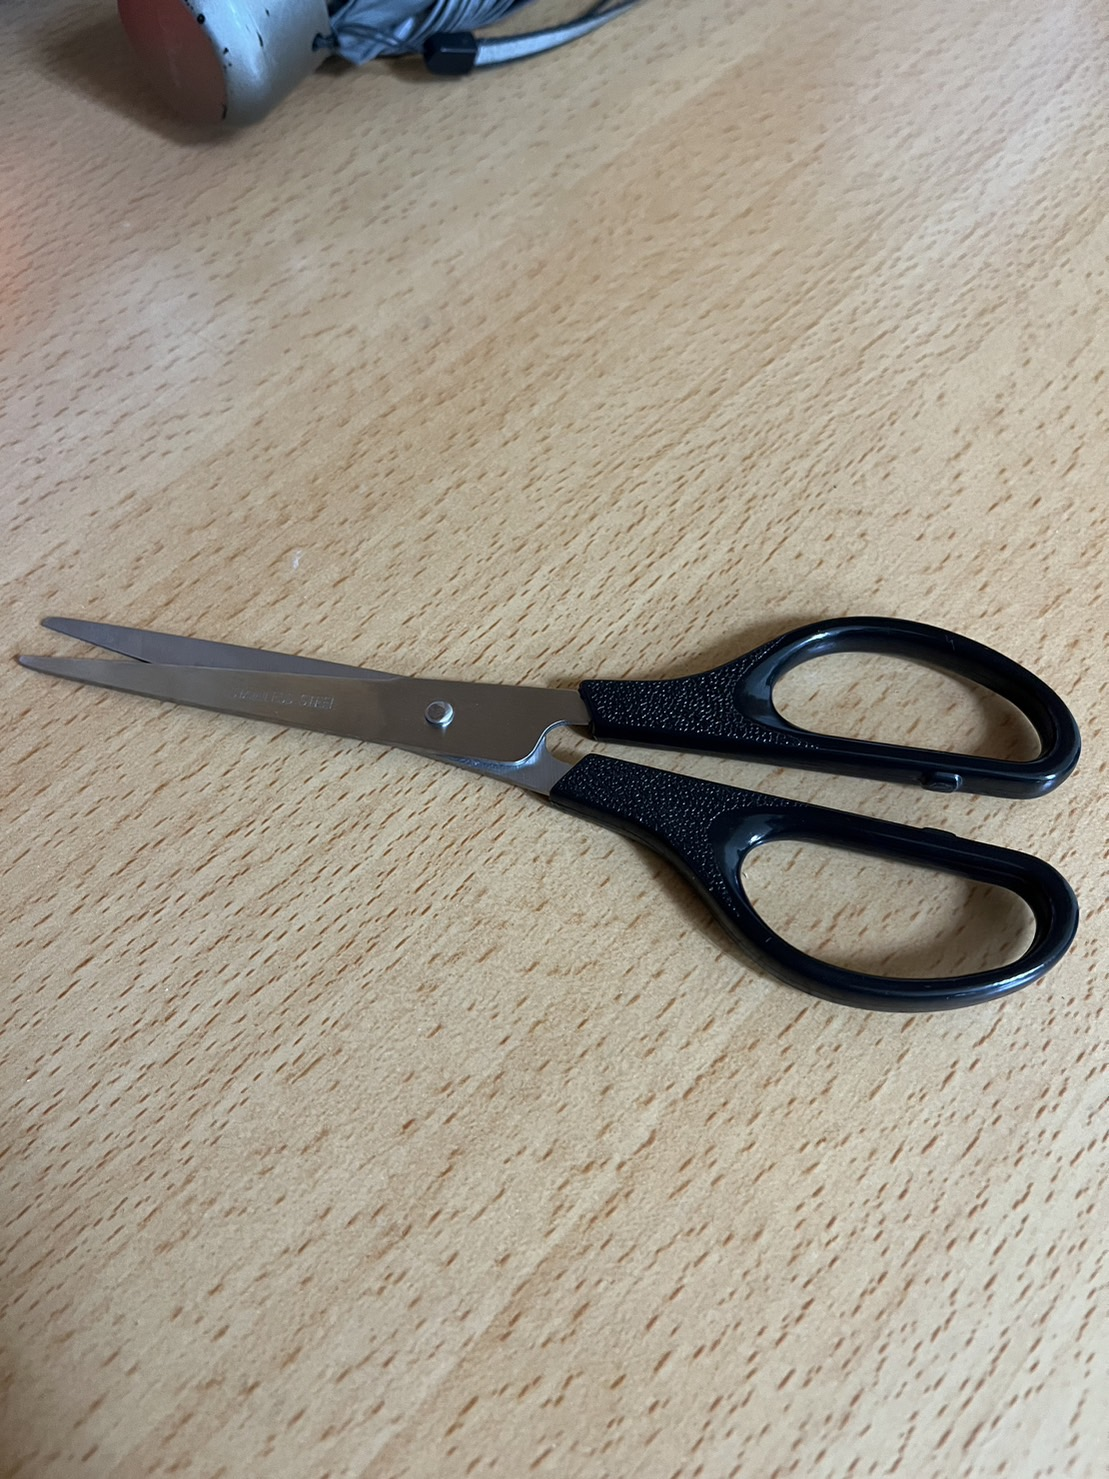scissor: (7, 569, 1090, 1042)
